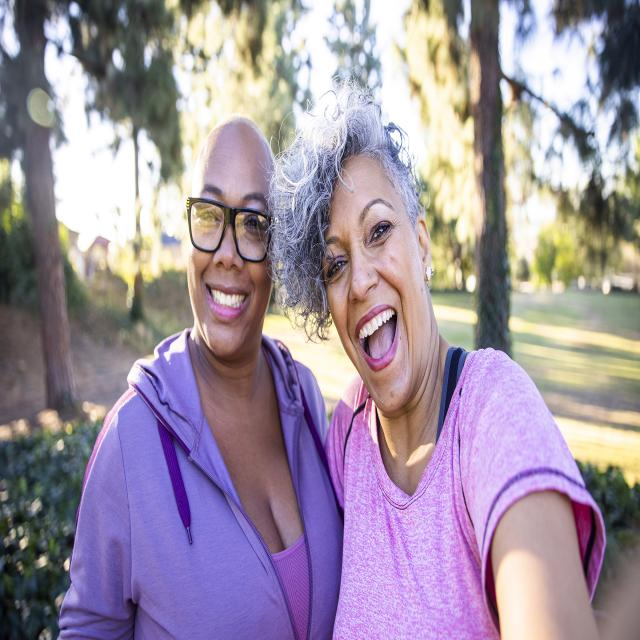adult: (270, 87, 608, 640), (54, 116, 342, 640)
